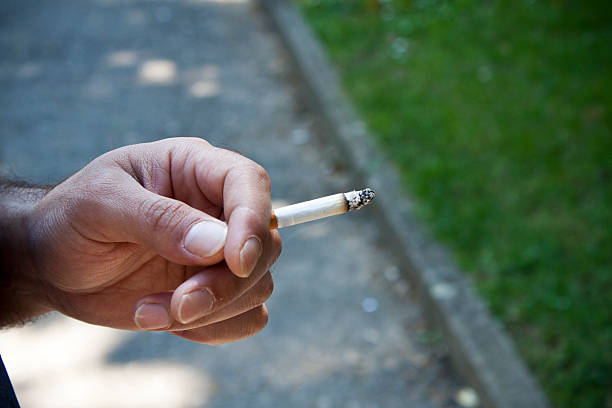cigarette: (262, 187, 378, 232)
